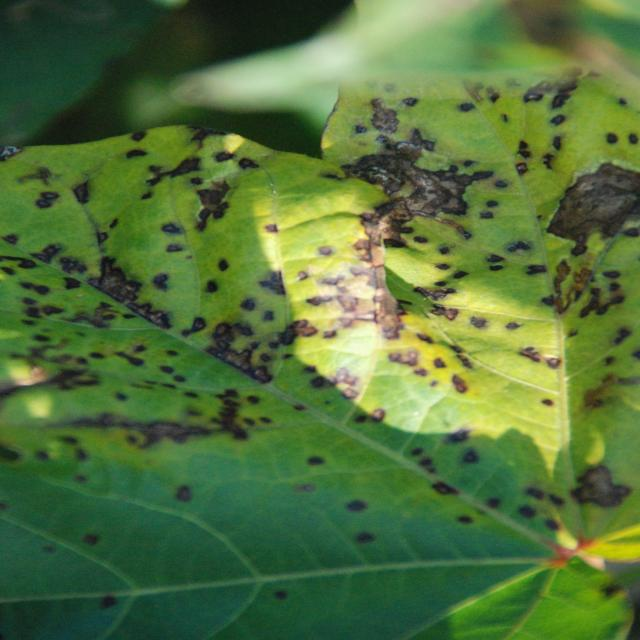Bacterial Blight: (22, 172, 616, 419)
